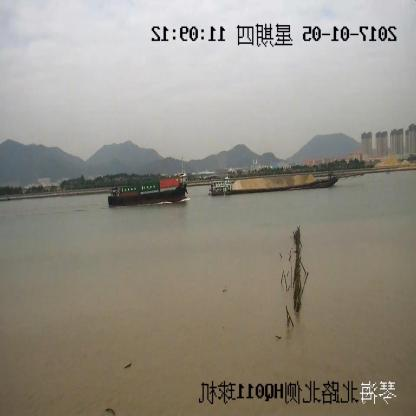Container Ship: (109, 172, 187, 207)
